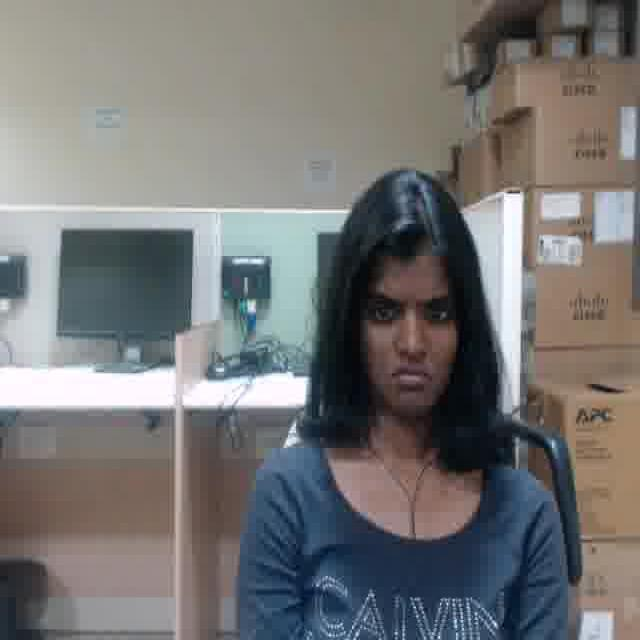Frustration: (359, 248, 457, 415)
